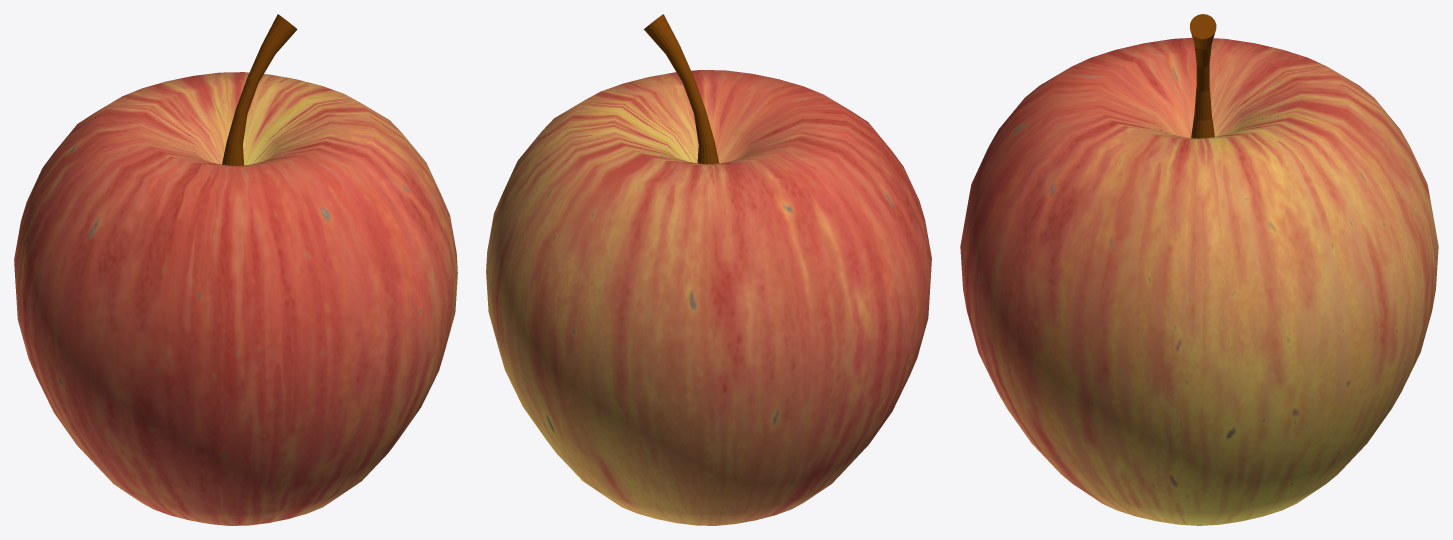
The model's file is apple.fbx.
3 views of the same model, side by side, from view 1: azimuth 30°, elevation 25°; view 2: azimuth 150°, elevation 25°; view 3: azimuth 270°, elevation 25° (orthographic). The views are drawn at different scales.
Parts seen in each view (by area): view 1: Sphere03, Box001; view 2: Sphere03, Box001; view 3: Sphere03, Box001.
Boxes of the visible parts, x1,y1,x2,y2 form: Sphere03: (14, 72, 457, 525); Box001: (222, 14, 297, 165); Sphere03: (486, 70, 931, 525); Box001: (644, 14, 719, 164); Sphere03: (960, 37, 1438, 525); Box001: (1190, 14, 1216, 138).
Bounding box in the file's own units: 65.63 × 72.65 × 63.94.
